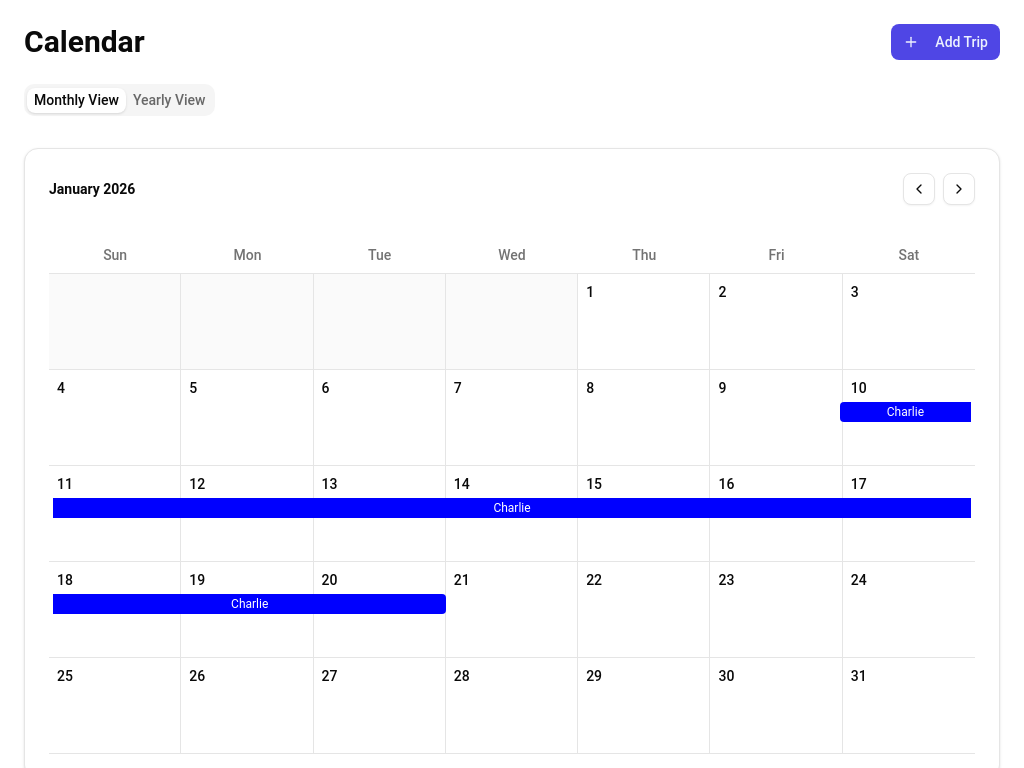
Test case: CalendarView › displays trip notes in tooltip when notes exist
# Find and hover over the trip element
Hover over the button "Charlie" below "10" at {"x": 905, "y": 412}, box [840,402,971,422]
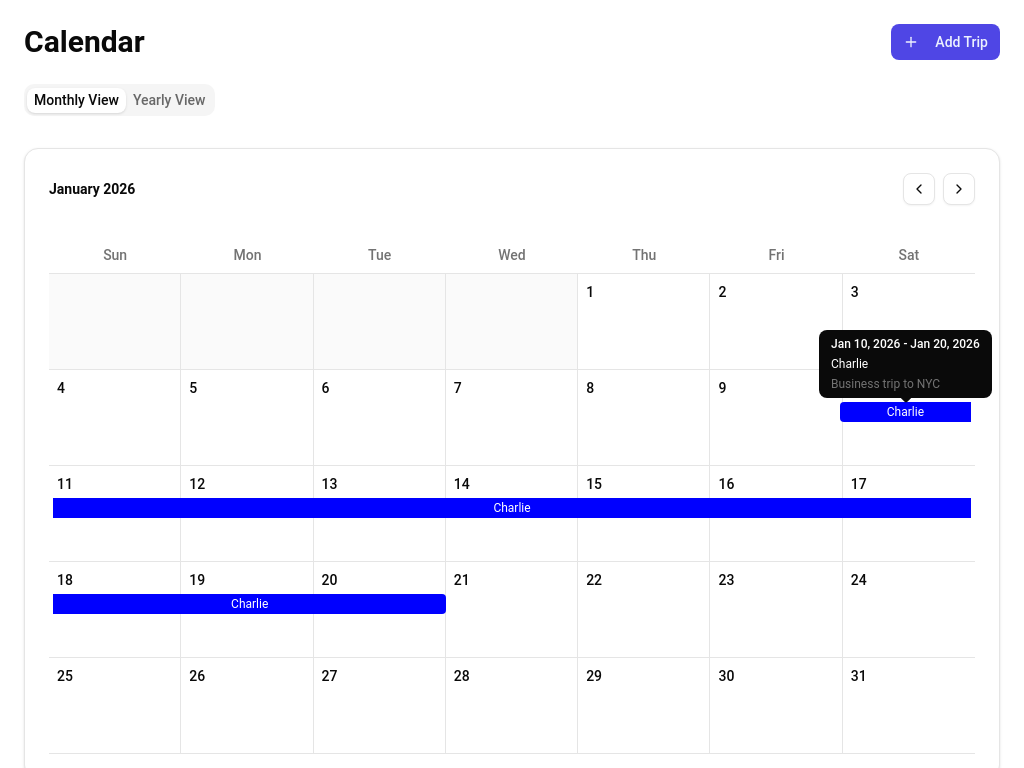
Expected: the text "Business trip to NYC" is shown, [831,377,940,391]
